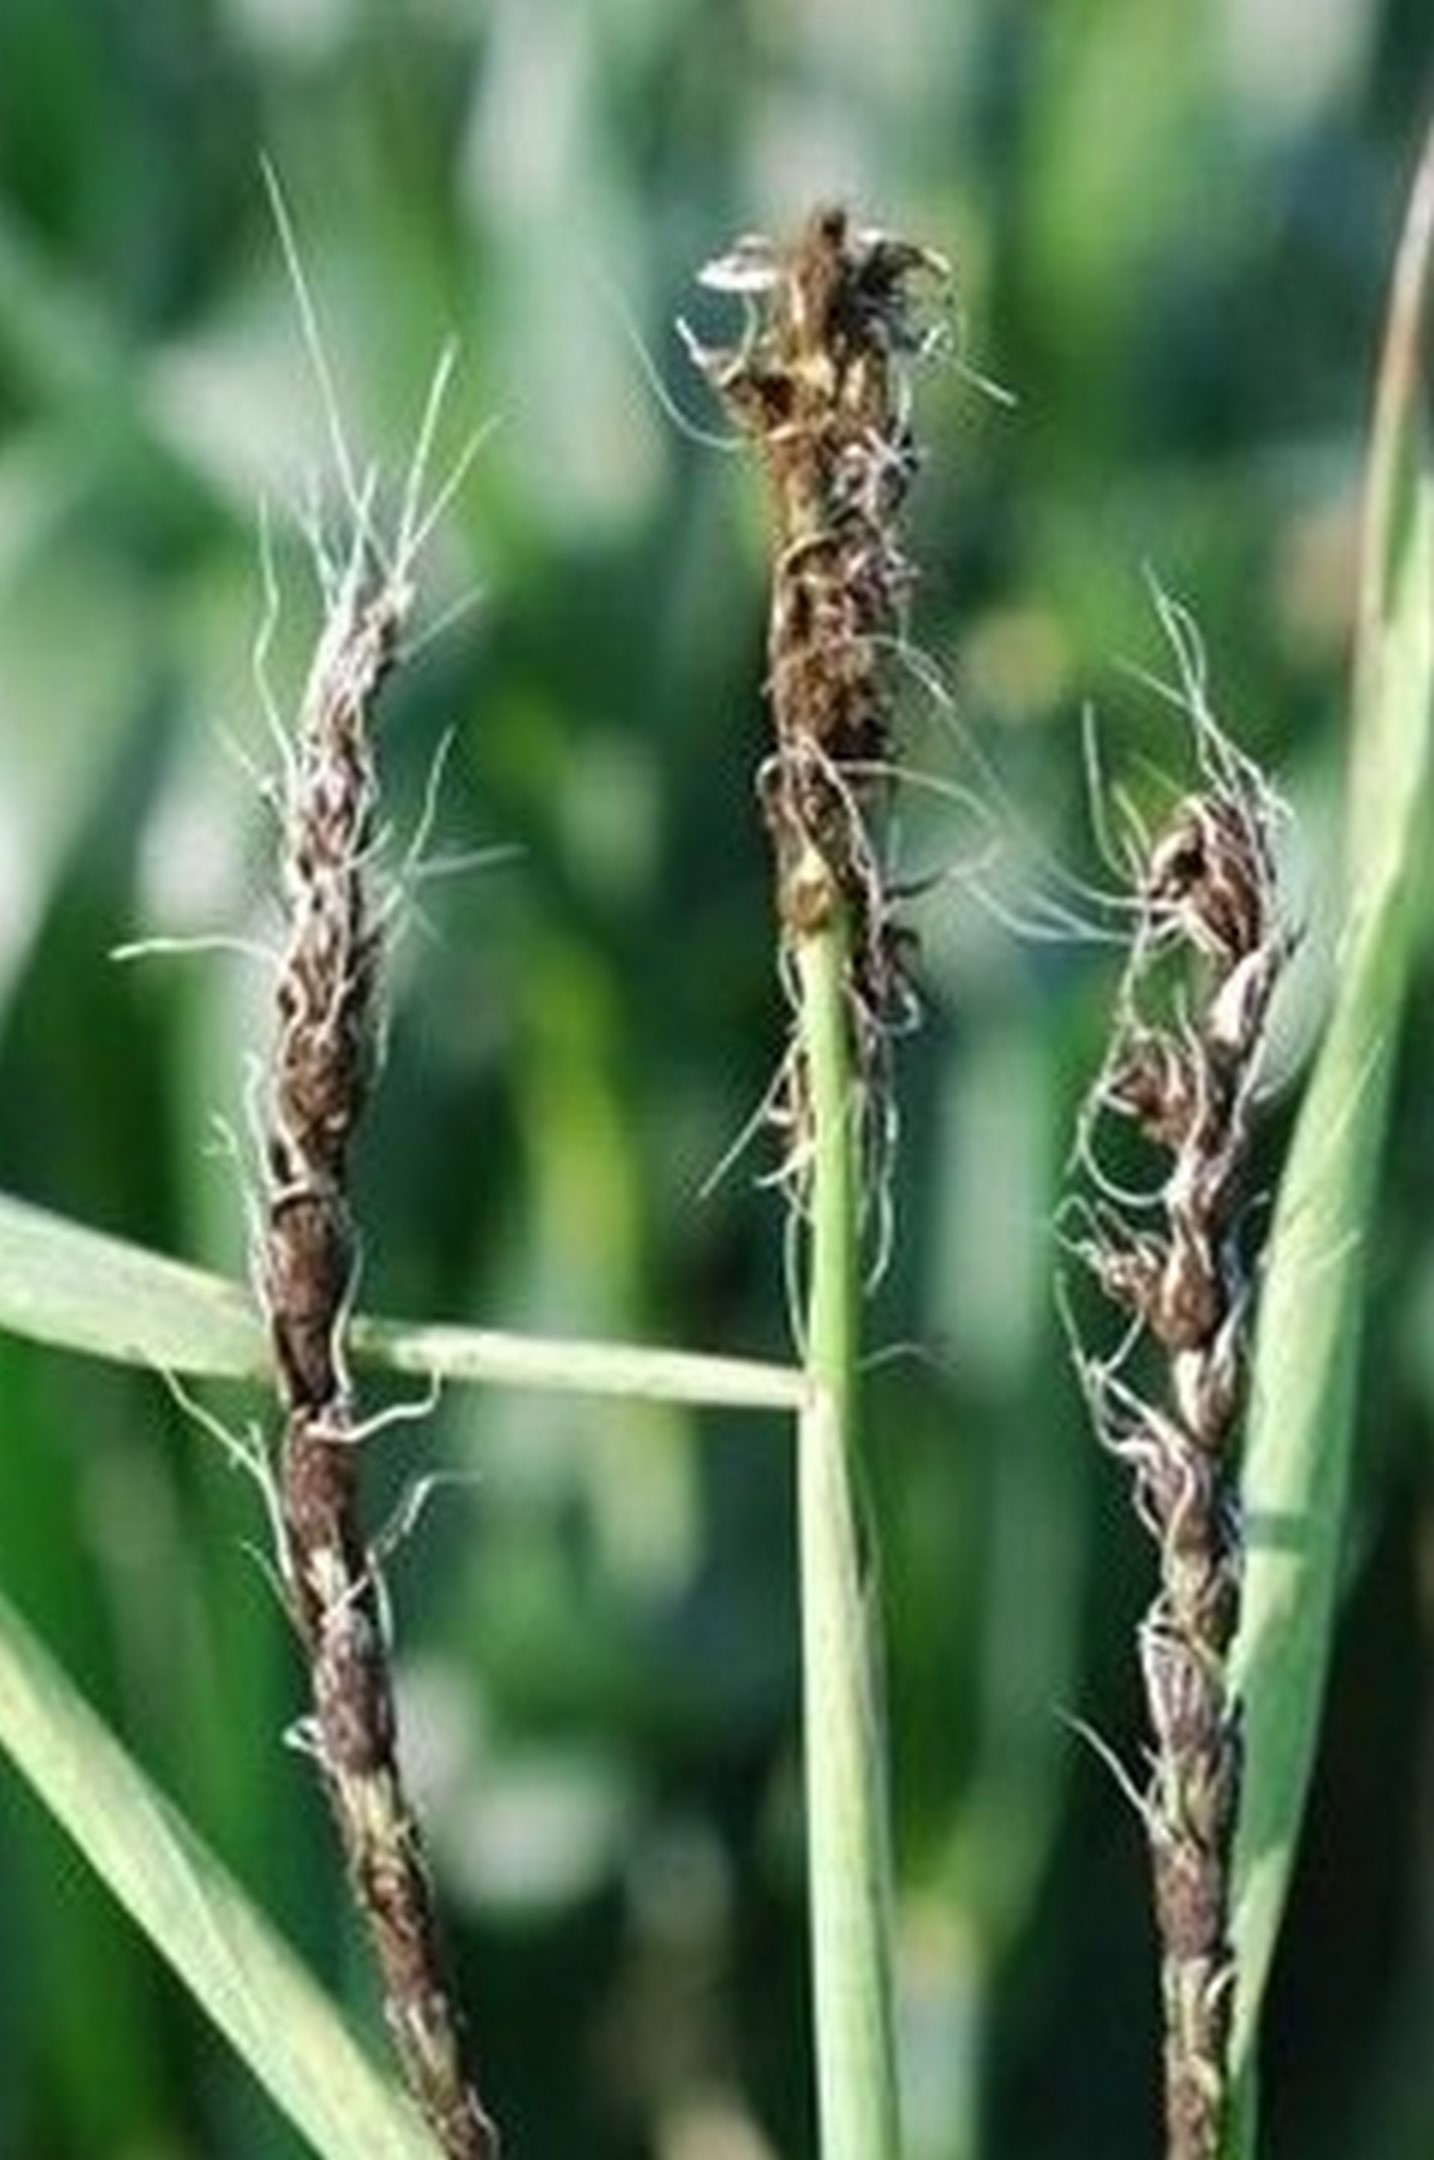Wheat Loose Smut: (234, 531, 520, 1978), (1039, 718, 1351, 1974), (674, 157, 960, 1059)
